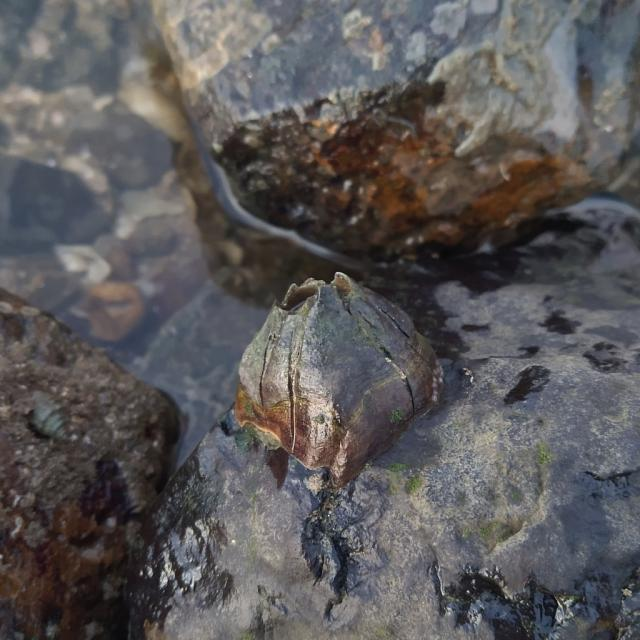barnacles: (222, 260, 453, 476)
